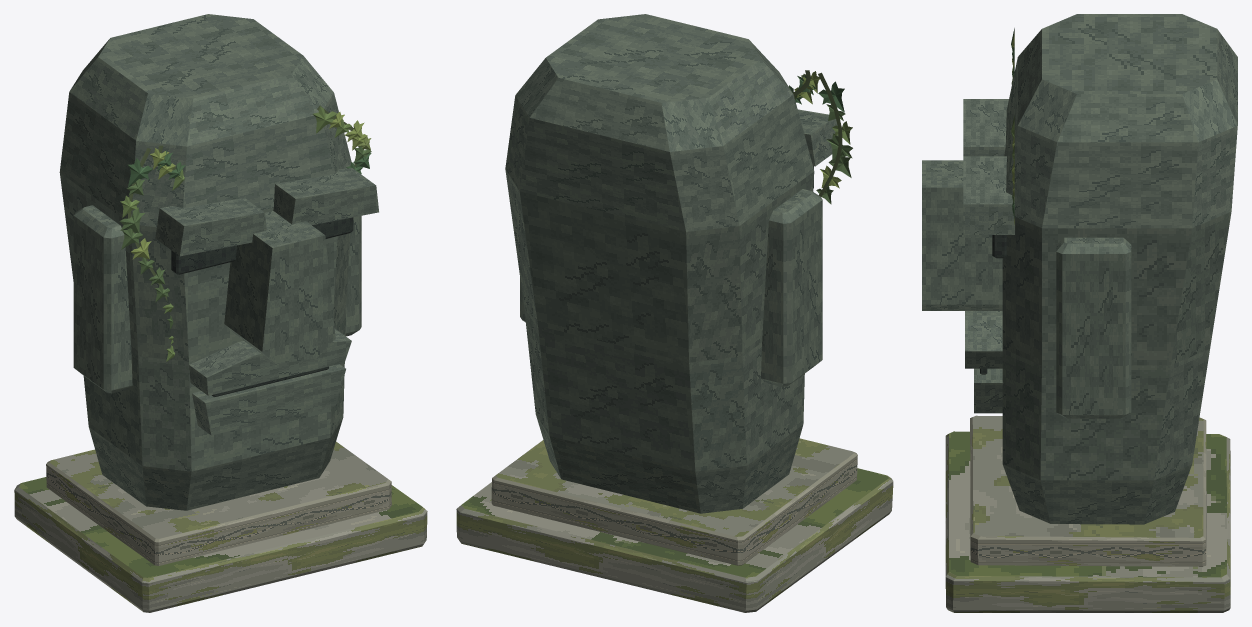
The model's file is shrine_moai.glb.
The picture shows the model from 3 angles, left to right: view 1: azimuth 30°, elevation 25°; view 2: azimuth 150°, elevation 25°; view 3: azimuth 270°, elevation 25°; orthographic projection. The views are drawn at different scales.
Visible parts, largest first — view 1: shrine_moai; view 2: shrine_moai; view 3: shrine_moai.
Boxes of the visible parts, <box> form: shrine_moai: <box>14,14,427,612</box>; shrine_moai: <box>456,14,893,612</box>; shrine_moai: <box>922,14,1237,612</box>.
Size of the model in its own units: 1.96 by 3 by 1.76.
3 materials, 2 textured.
